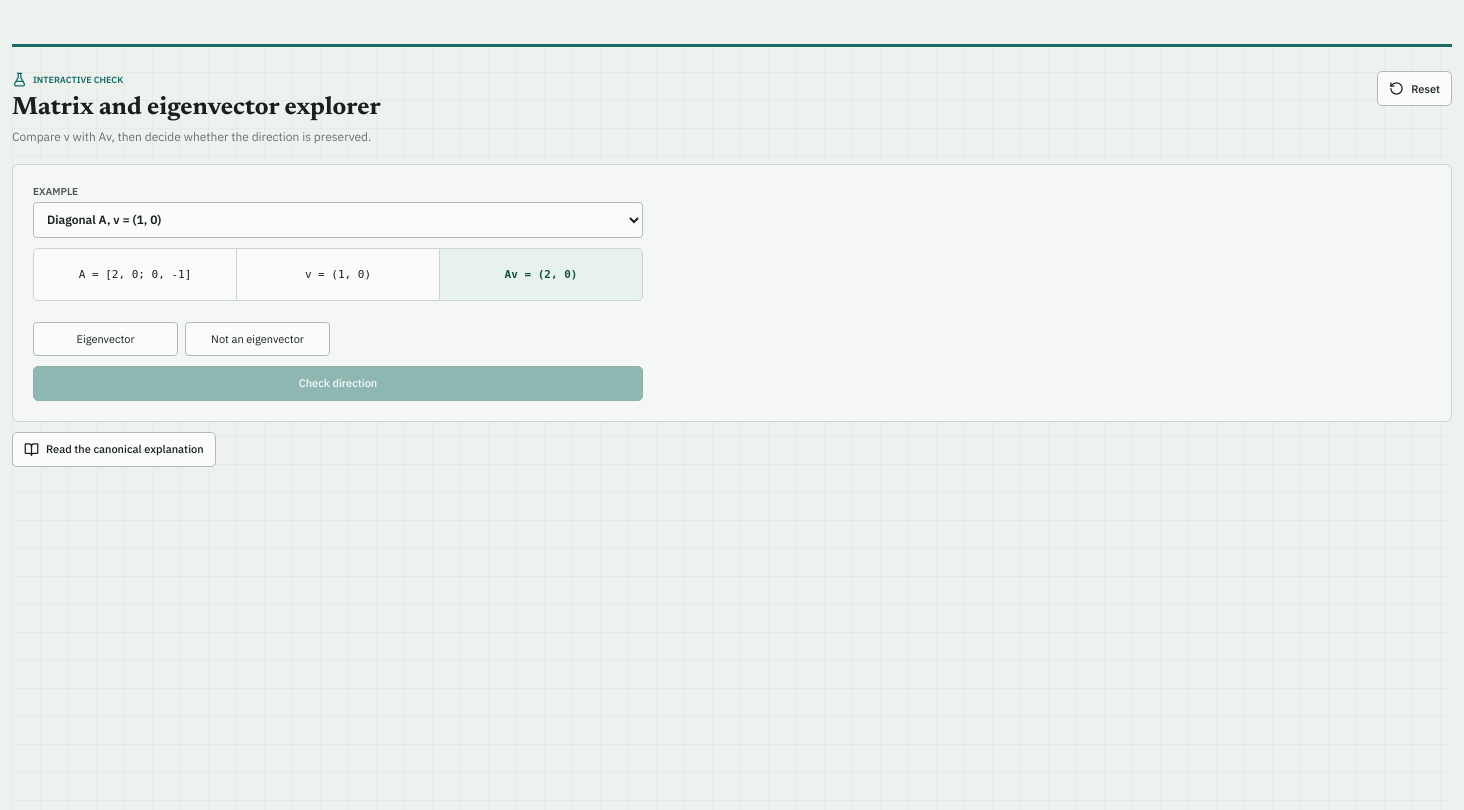
Test: interactive foundation exercises › distinguishes eigenvectors with immediate feedback
What coordinates should you click on to do the following:
click the button "Not an eigenvector"
I would click on:
 (258, 338)
Its box is [185,322,330,356].
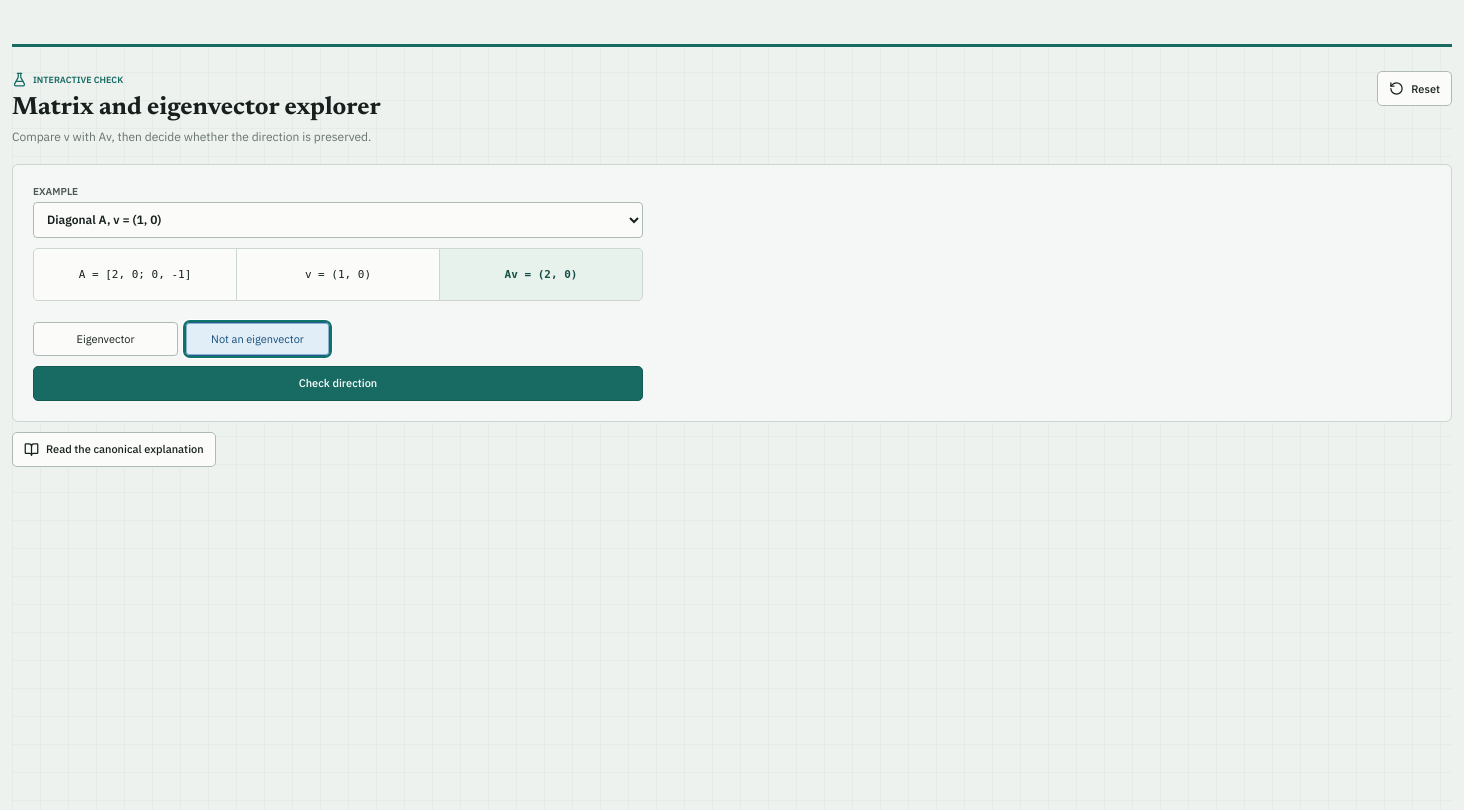
What coordinates should you click on to do the following:
click the button "Check direction"
I would click on:
 (338, 383)
Its box is [33,366,643,400].
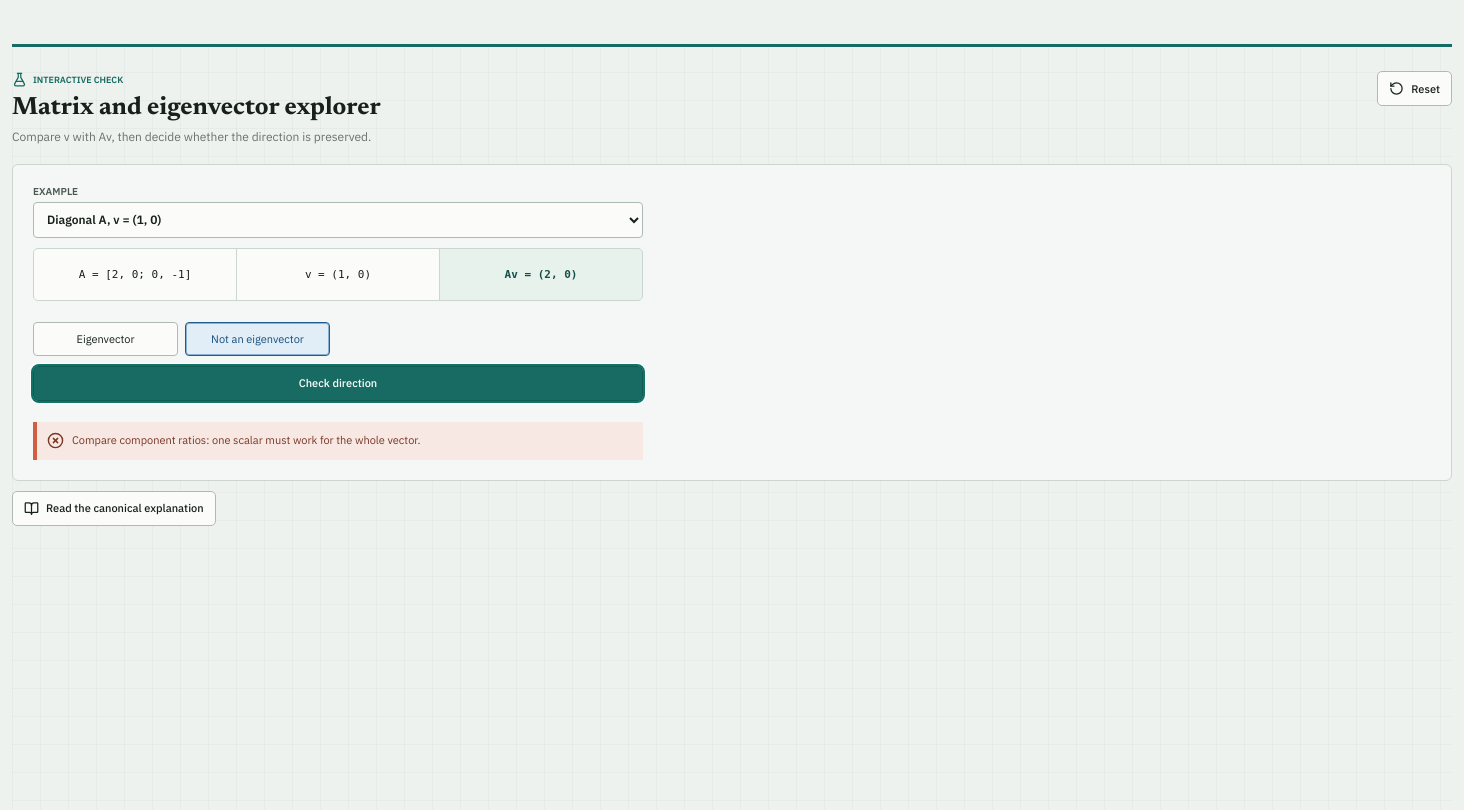
Expected: the text "Compare component ratios" is shown, [72,433,420,447]
What coordinates should you click on to do the following:
click the button "Eigenvector"
I would click on:
 (106, 338)
Its box is [33,322,178,356].
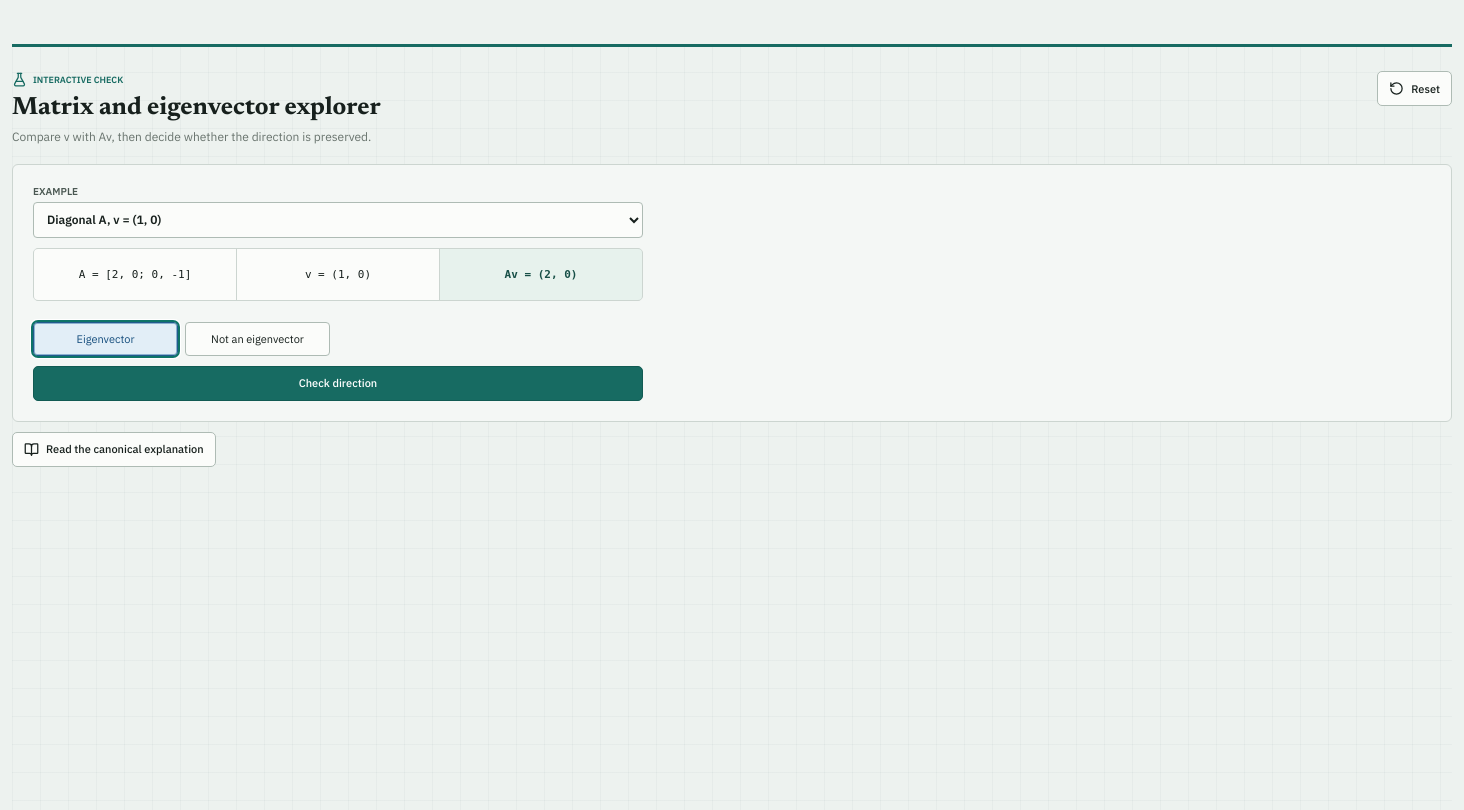
What coordinates should you click on to do the following:
click the button "Check direction"
I would click on:
 (338, 383)
Its box is [33,366,643,400].
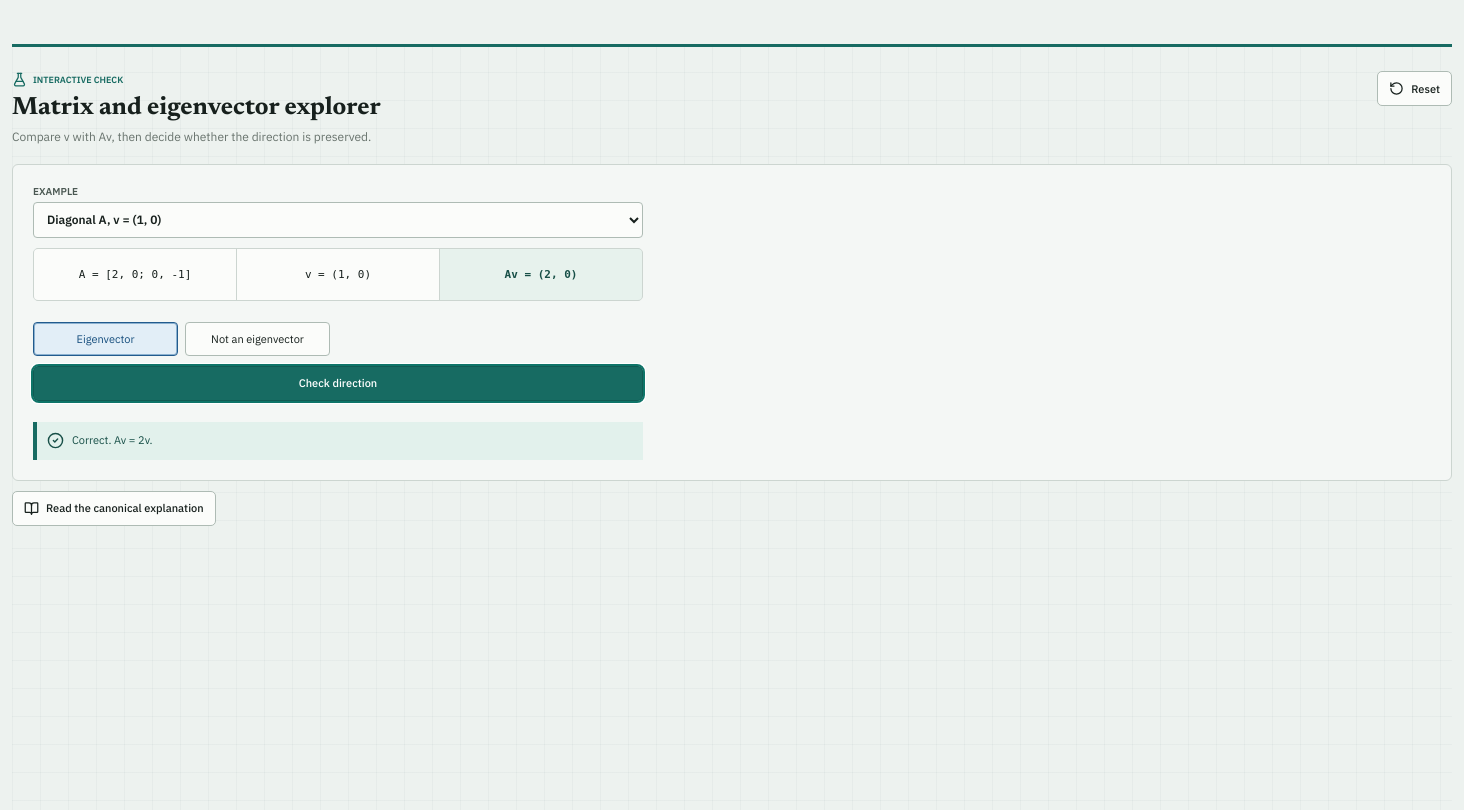
Expected: the text "Correct. Av = 2v." is shown, [72,433,153,448]
